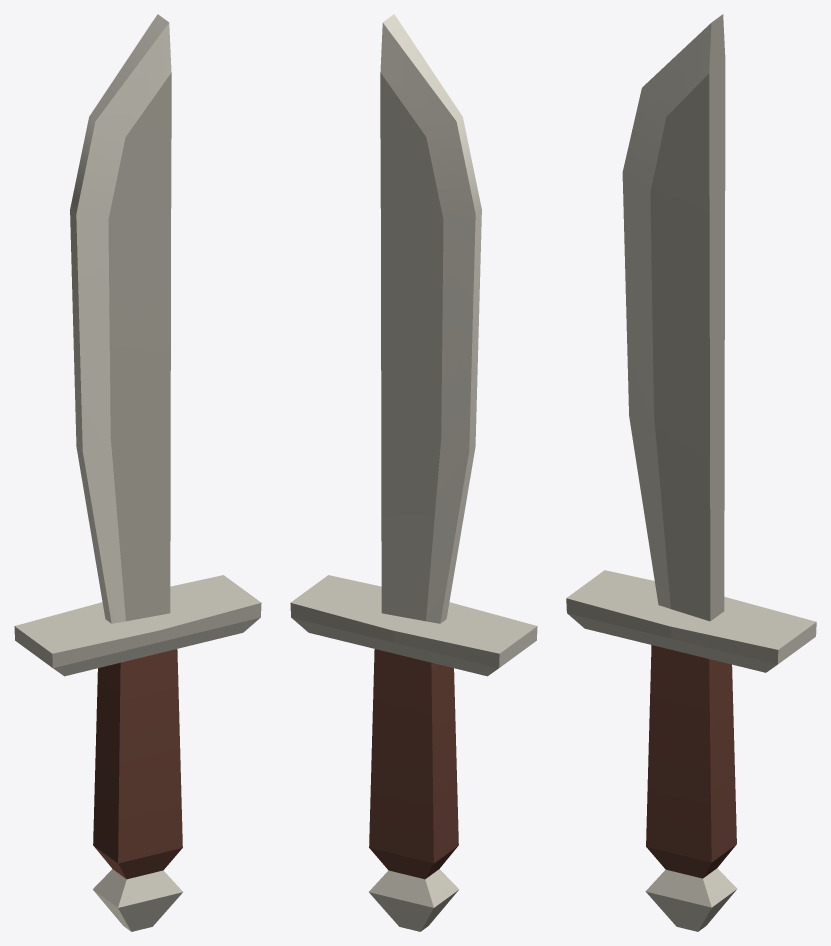
The model's file is Sword_A.fbx.
3 views of the same model, side by side, from view 1: azimuth 30°, elevation 25°; view 2: azimuth 150°, elevation 25°; view 3: azimuth 330°, elevation 25° (orthographic).
Parts seen in each view (by area): view 1: Sword_A; view 2: Sword_A; view 3: Sword_A.
Part boxes in pixels (x1,y1,x2,y2): Sword_A: (14, 14, 261, 931); Sword_A: (290, 14, 537, 931); Sword_A: (566, 14, 816, 931).
Bounding box in the file's own units: 17.83 × 73.48 × 6.46.
